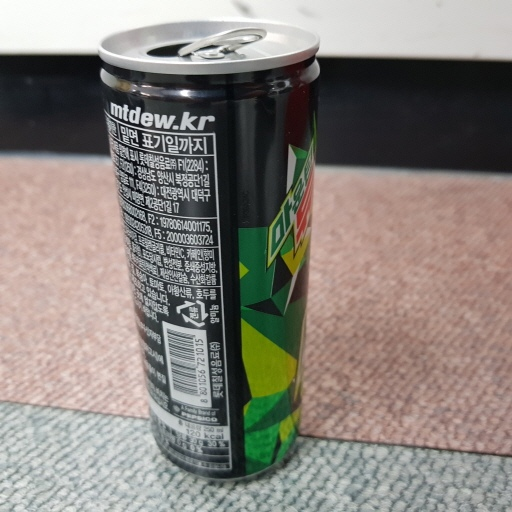Metal_0: (97, 16, 323, 479)
